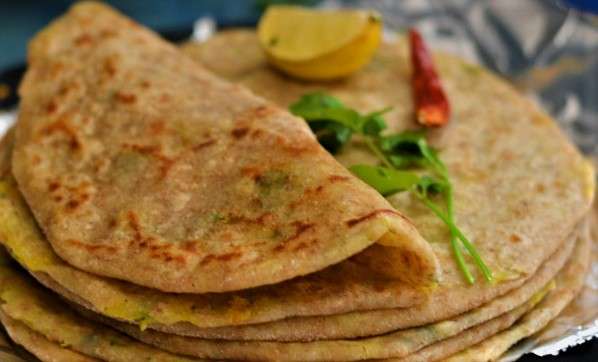aloo_paratha: (1, 5, 594, 362)
